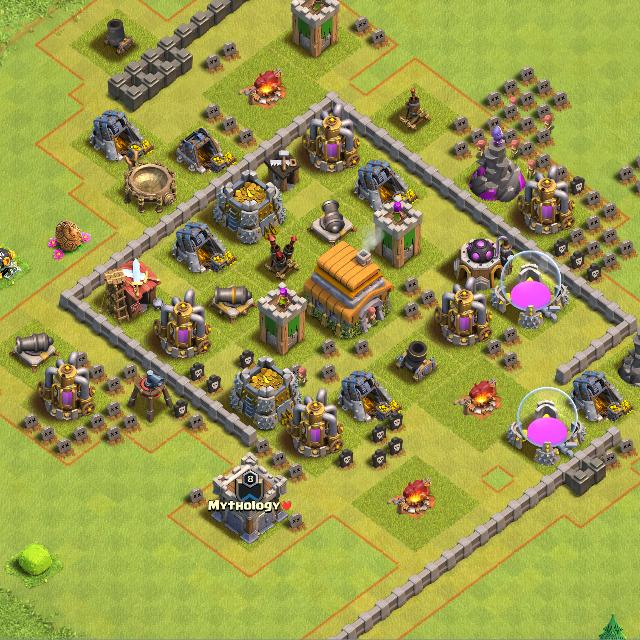Arqueira: (373, 194, 422, 269), (260, 281, 306, 355), (288, 1, 340, 58)
Canhao: (308, 194, 357, 247), (9, 329, 61, 371), (209, 283, 257, 322)
